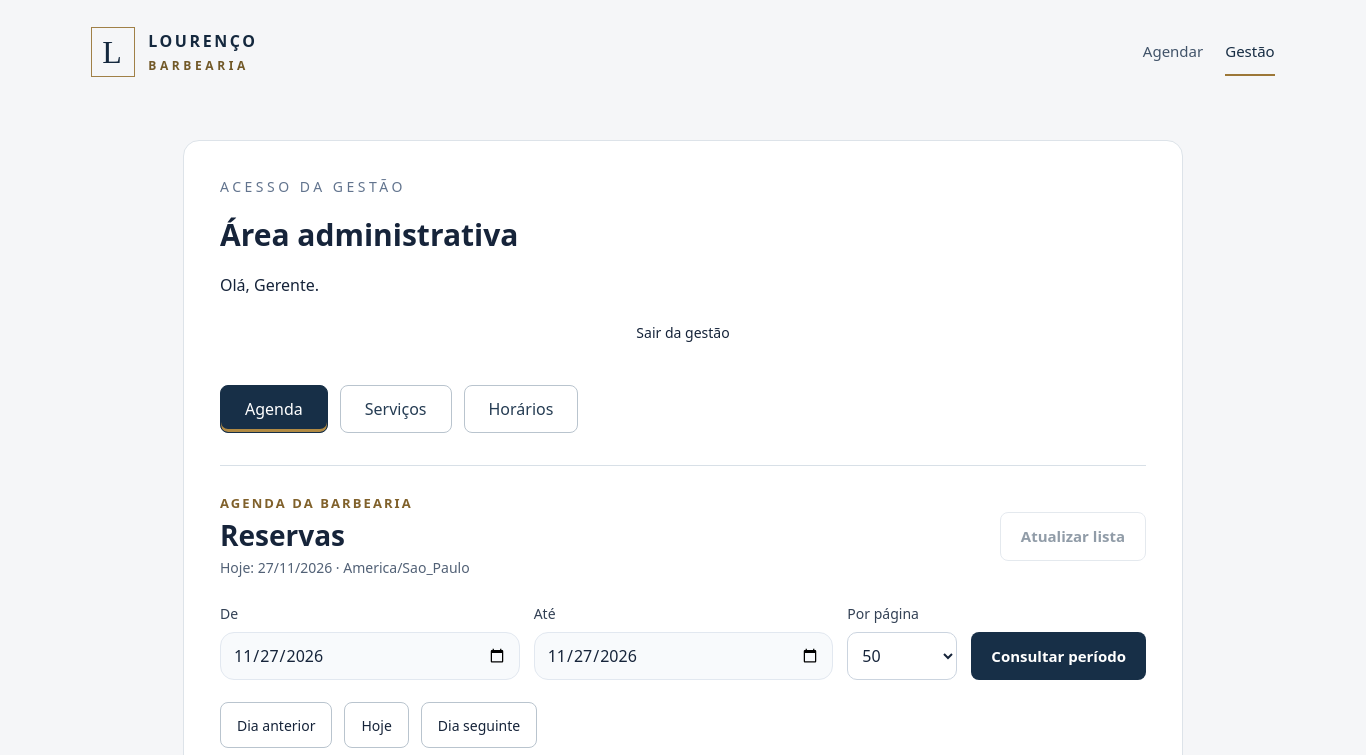
Test: validates empty/opening and overlapping pauses without writes
Click the button "Horários".
click(521, 409)  # box [464,385,578,433]
(page scrolled)
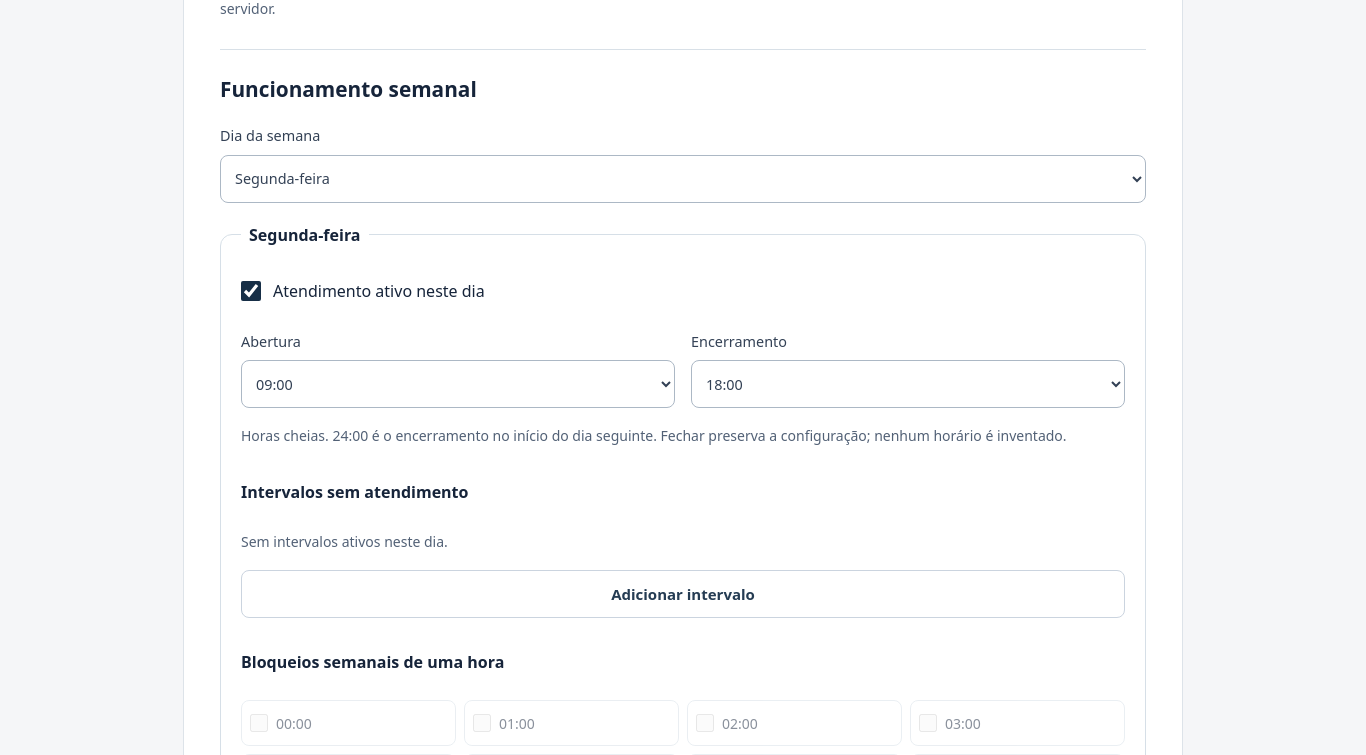
Check: the dropdown labelled "Dia da semana" is shown, box [220,155,1146,203]
Select "18:00" in the dropdown labelled "Abertura" at coordinates (458, 384), box [241,360,675,408]
(page scrolled)
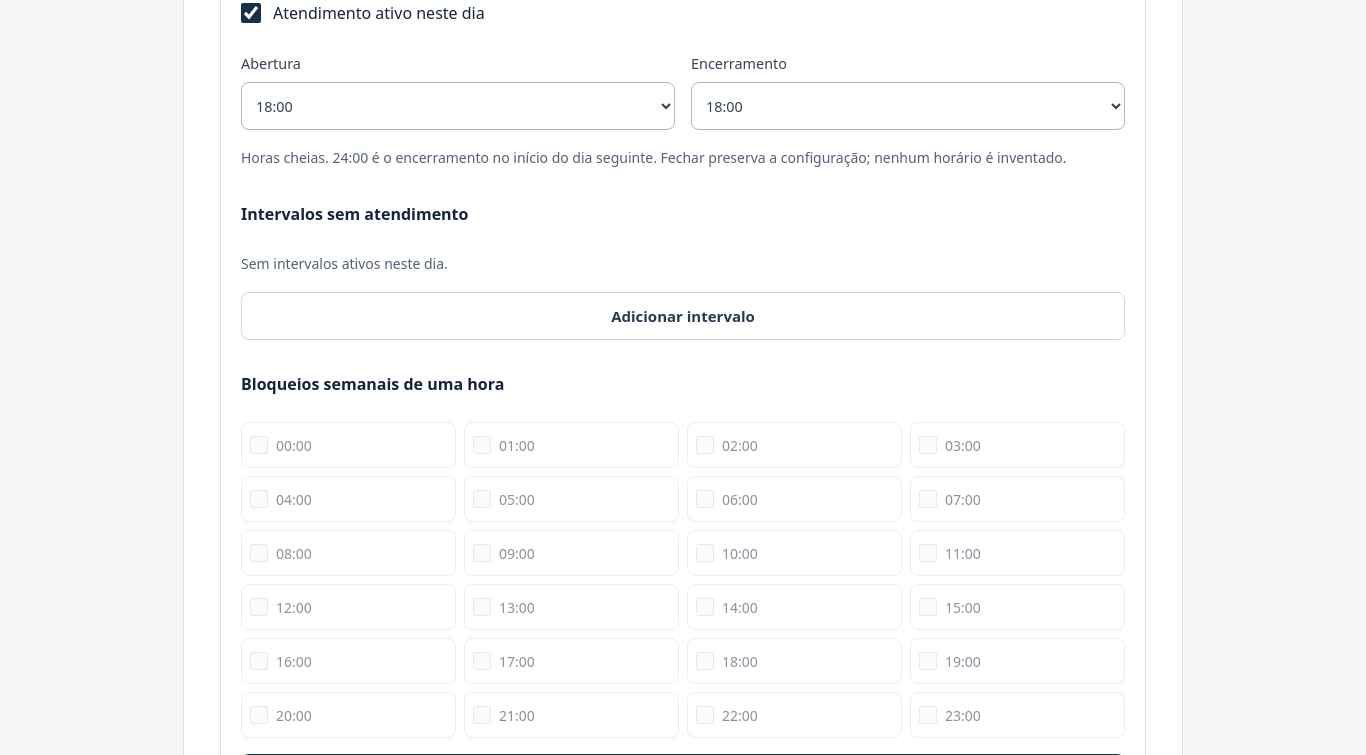
Submit the form named "Configurar dia semanal"
(page scrolled)
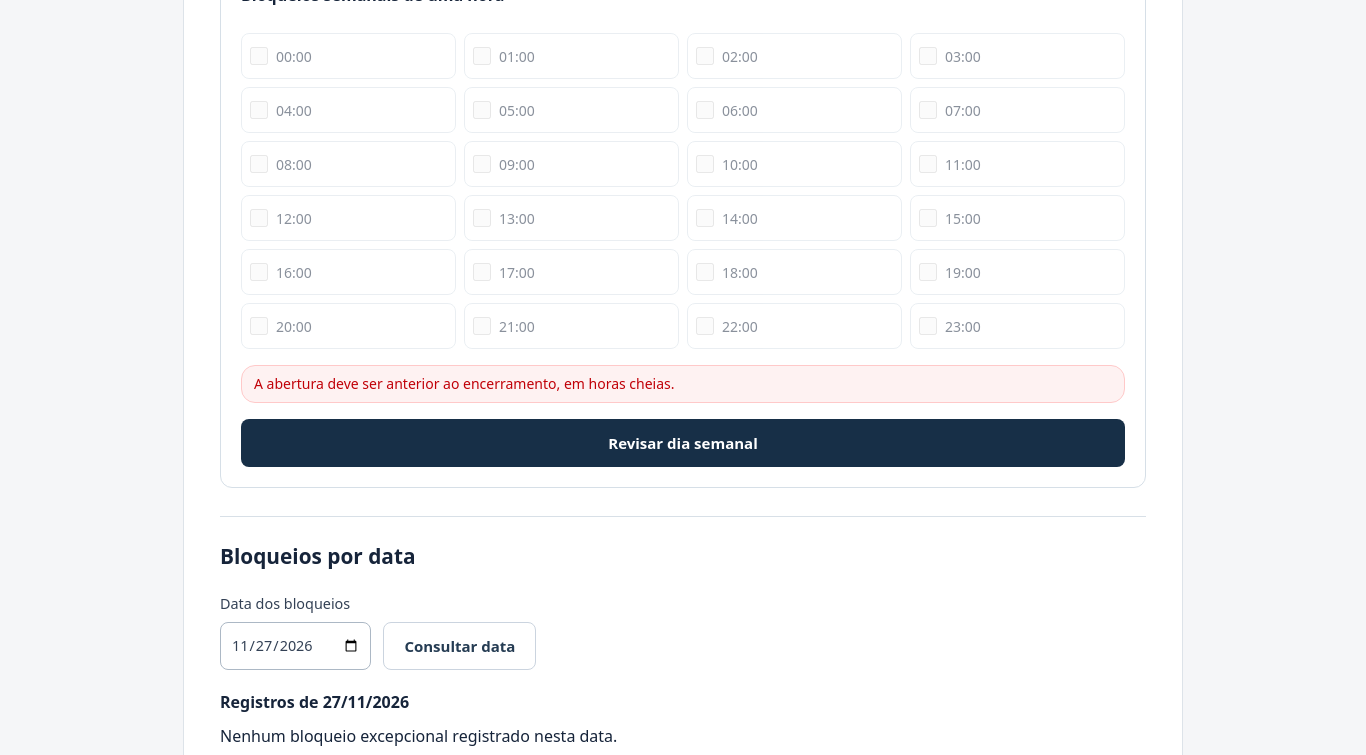
Check: the message "A abertura deve ser anterior ao encerramento, em horas cheias." is shown, box [241,365,1125,403]
